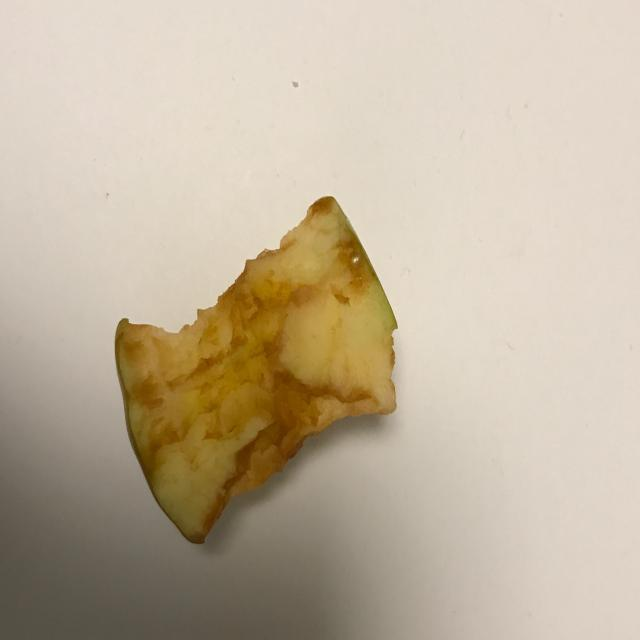trash: (115, 194, 398, 545)
